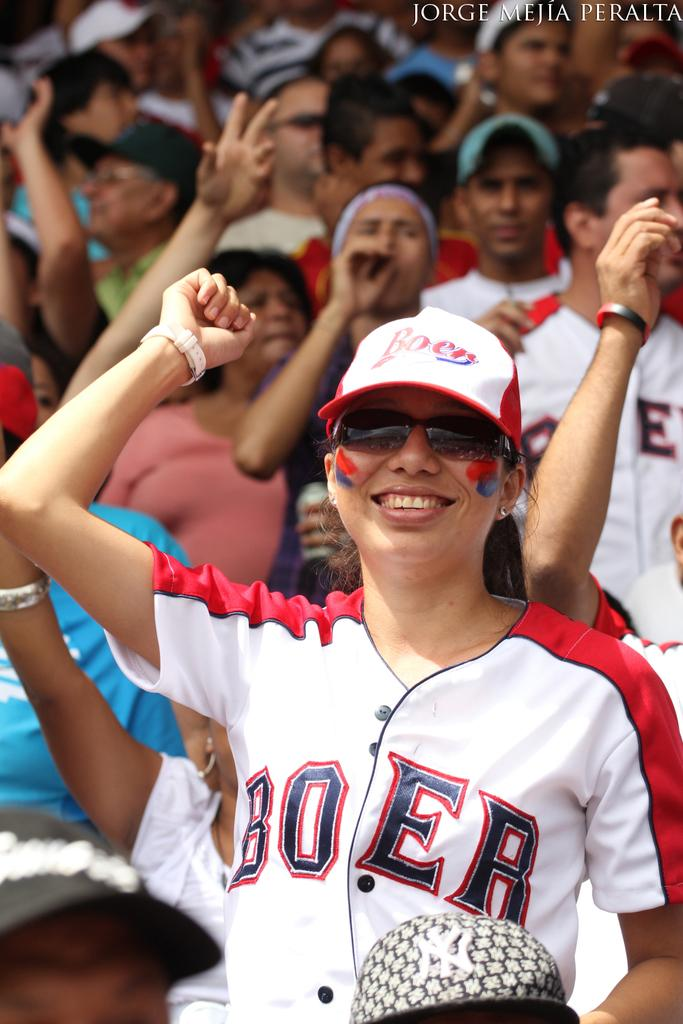Hat: (0, 806, 225, 990), (314, 302, 524, 472), (347, 912, 576, 1023), (454, 116, 554, 181), (67, 0, 158, 53), (473, 0, 547, 50)
